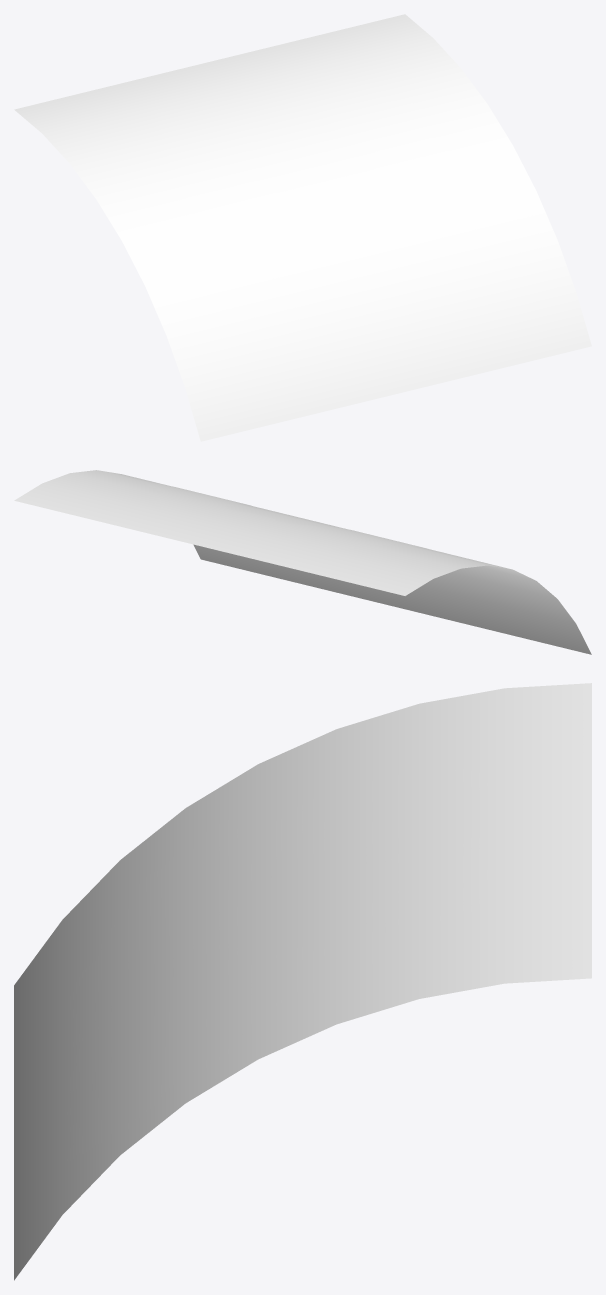
The model's file is grd_F_H_0.dae.
3 renders of one model, top to bottom at view 1: azimuth 30°, elevation 25°; view 2: azimuth 150°, elevation 25°; view 3: azimuth 270°, elevation 25°, orthographic. The views are drawn at different scales.
Visible parts, largest first — view 1: grd_F_H_0; view 2: grd_F_H_0; view 3: grd_F_H_0.
Boxes of the visible parts, <box> form: grd_F_H_0: <box>14,14,591,441</box>; grd_F_H_0: <box>14,470,591,654</box>; grd_F_H_0: <box>14,683,591,1280</box>.
Bounding box in the file's own units: 512 × 244 × 423.
Materials: 2 (1 with a texture image).
